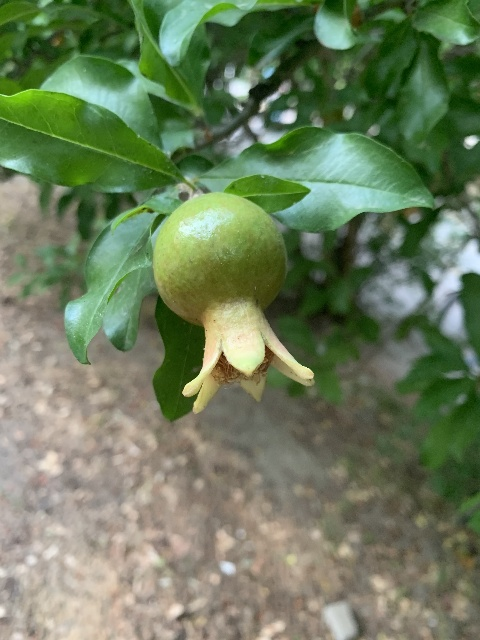mid-growth: (152, 192, 316, 413)
